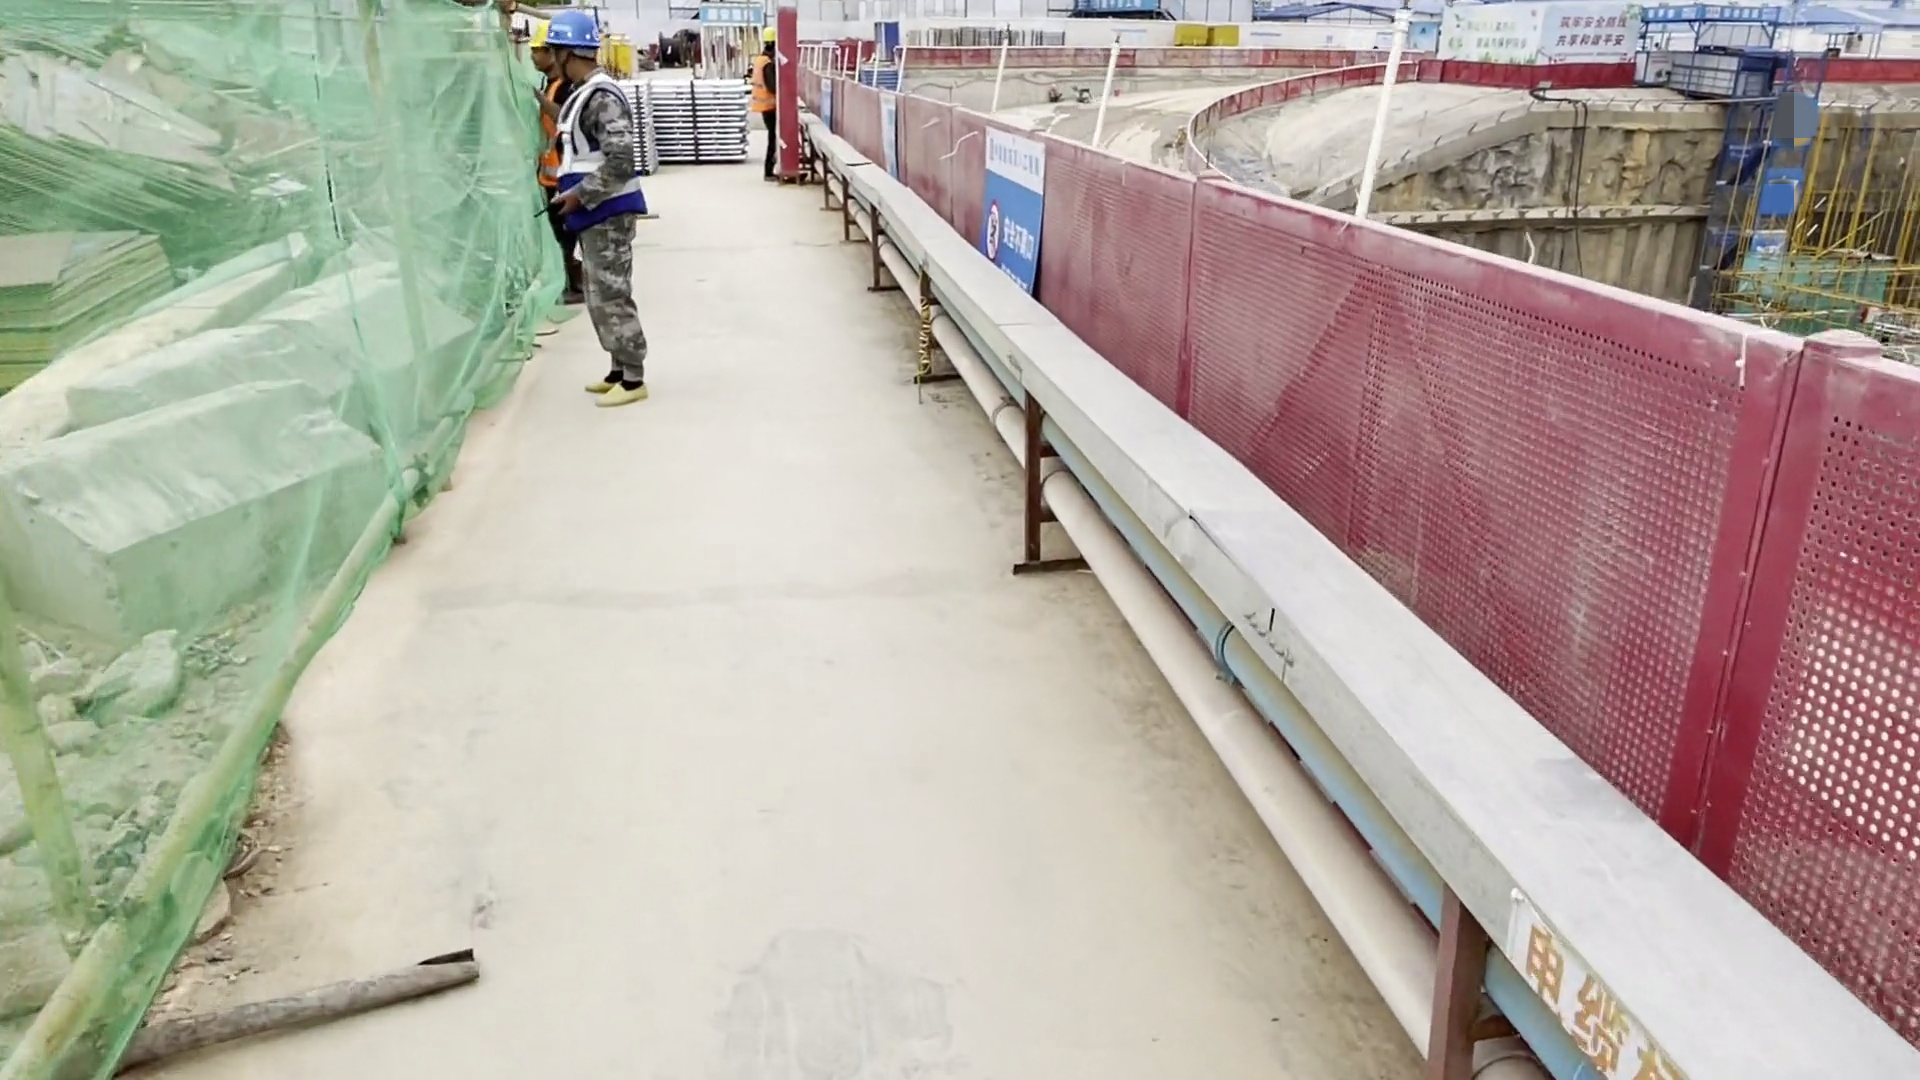helmet: (516, 11, 601, 54)
scaffold: (622, 70, 752, 161)
slogan: (1390, 1, 1658, 73)
vest: (559, 69, 663, 233), (525, 73, 570, 175), (746, 46, 777, 115)
